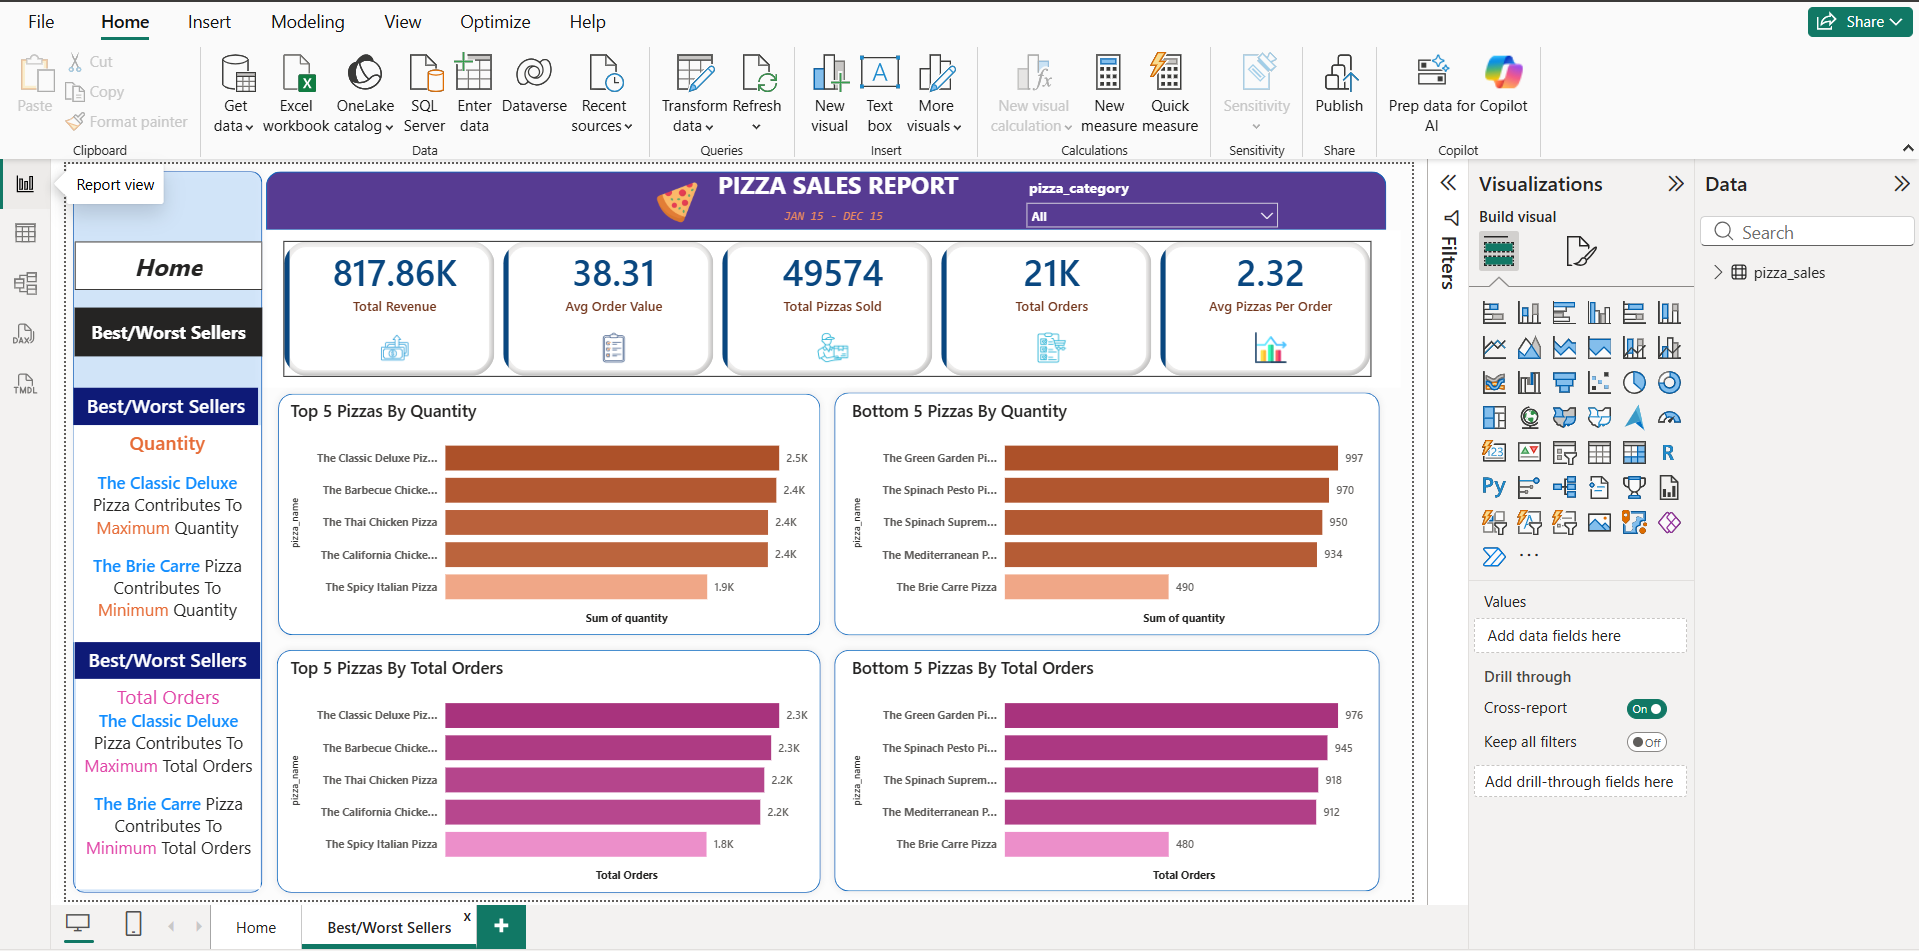

The dashboard page shown, as its layout file describes it:
{"tool":"powerbi","page":{"name":"Best/Worst Sellers","canvas":[1500,820],"ordinal":1},"visuals":[{"type":"cardVisual","fields":{"Data":["pizza_sales.Total Revenue","pizza_sales.Avg Order Value","pizza_sales.Total Pizzas Sold","pizza_sales.Total Orders","pizza_sales.Avg Pizzas Per Order"]},"box":[210,73.3,1276.7,175],"z":0},{"type":"shape","box":[223.3,8.3,1248.3,65],"z":1000},{"type":"textbox","box":[721.7,0,278.3,50],"z":2000},{"type":"textbox","box":[795,43.3,138.3,30],"z":3000},{"type":"image","box":[651.7,20,58.3,46.7],"z":4000},{"type":"shape","box":[848.3,246.7,623.3,286.7],"z":5000},{"type":"shape","box":[0,0,226.7,820],"z":6000},{"type":"textbox","box":[10,531.7,206.7,41.7],"z":7000},{"type":"textbox","box":[11.3,574.1,205.8,234.8],"z":8000},{"type":"slicer","fields":{"Values":["pizza_sales.pizza_category"]},"box":[1059.7,9.6,300.7,61.1],"z":9000},{"type":"textbox","box":[8,249.3,205.8,41.8],"z":10000},{"type":"textbox","box":[8,291.1,209,241.2],"z":11000},{"type":"pageNavigator","box":[9.6,86.8,209,54.7],"z":12000},{"type":"pageNavigator","box":[9.6,160.8,209,54.7],"z":13000},{"type":"shape","box":[848.3,533.3,623.3,285],"z":14000},{"type":"shape","box":[226.7,533.3,621.7,286.7],"z":15000},{"type":"shape","box":[228.3,248.3,620,285],"z":16000},{"type":"barChart","title":"Bottom 5 Pizzas By Quantity","fields":{"Category":["pizza_sales.pizza_name"],"Y":["Sum(pizza_sales.quantity)"]},"box":[870,261.7,580,256.7],"z":17000},{"type":"barChart","title":"Bottom 5 Pizzas By Total Orders","fields":{"Category":["pizza_sales.pizza_name"],"Y":["pizza_sales.Total Orders"]},"box":[870,548.3,580,256.7],"z":18000},{"type":"barChart","title":"Top 5 Pizzas By Quantity ","fields":{"Category":["pizza_sales.pizza_name"],"Y":["Sum(pizza_sales.quantity)"]},"box":[245,261.7,586.7,256.7],"z":19000},{"type":"barChart","title":"Top 5 Pizzas By Total Orders","fields":{"Category":["pizza_sales.pizza_name"],"Y":["pizza_sales.Total Orders"]},"box":[245,548.3,586.7,256.7],"z":20000}]}

Visuals, with their boxes on the page's 1500x820 design canvas (x1, y1, x2, y2). These are canvas units, not pixel positions in the 1919x951 screenshot, which may show the page scaled, cropped or inside an application window:
cardVisual - pizza_sales.Total Revenue x pizza_sales.Avg Order Value: bbox=[210, 73, 1487, 248]
shape: bbox=[223, 8, 1472, 73]
textbox: bbox=[722, 0, 1000, 50]
textbox: bbox=[795, 43, 933, 73]
image: bbox=[652, 20, 710, 67]
shape: bbox=[848, 247, 1472, 533]
shape: bbox=[0, 0, 227, 820]
textbox: bbox=[10, 532, 217, 573]
textbox: bbox=[11, 574, 217, 809]
slicer - pizza_sales.pizza_category: bbox=[1060, 10, 1360, 71]
textbox: bbox=[8, 249, 214, 291]
textbox: bbox=[8, 291, 217, 532]
pageNavigator: bbox=[10, 87, 219, 142]
pageNavigator: bbox=[10, 161, 219, 216]
shape: bbox=[848, 533, 1472, 818]
shape: bbox=[227, 533, 848, 820]
shape: bbox=[228, 248, 848, 533]
"Bottom 5 Pizzas By Quantity" barChart: bbox=[870, 262, 1450, 518]
"Bottom 5 Pizzas By Total Orders" barChart: bbox=[870, 548, 1450, 805]
"Top 5 Pizzas By Quantity " barChart: bbox=[245, 262, 832, 518]
"Top 5 Pizzas By Total Orders" barChart: bbox=[245, 548, 832, 805]
